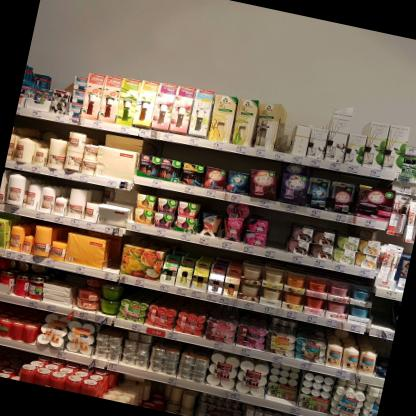empty_space: (264, 205, 300, 252), (273, 105, 300, 153), (369, 296, 399, 333), (101, 232, 124, 273)
